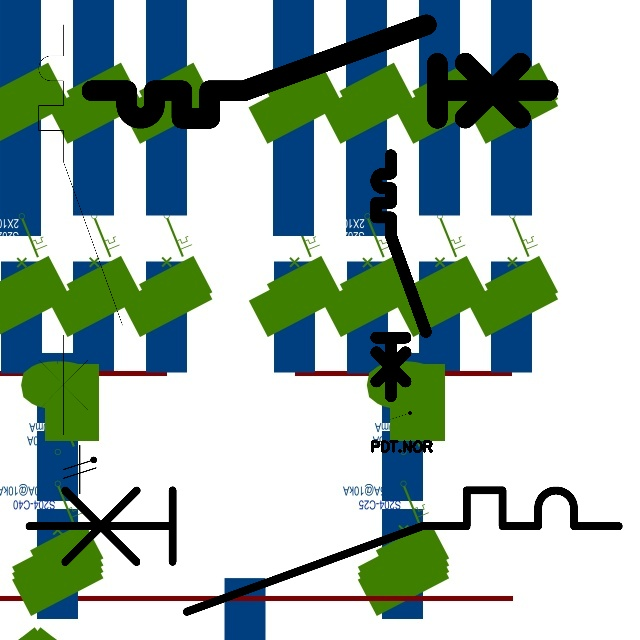interruptor_termomagnetico: (14, 475, 634, 627), (80, 13, 560, 130), (28, 14, 133, 445), (370, 149, 432, 402)
